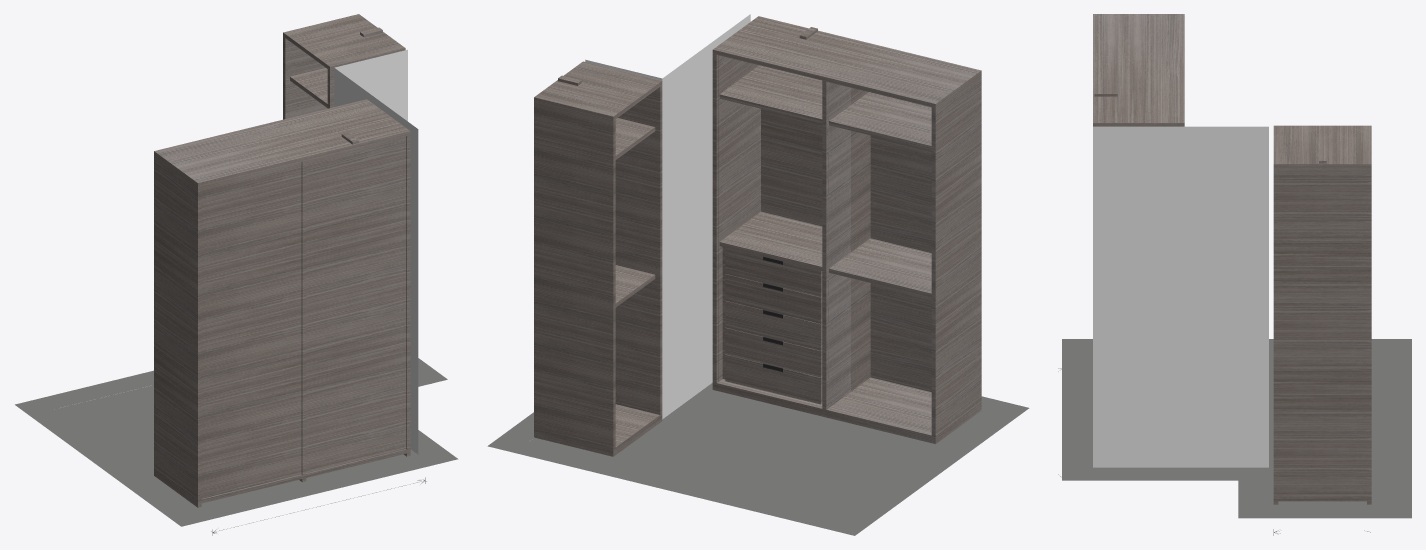
Rendered from CON SC.obj.
The picture shows the model from 3 angles, left to right: view 1: azimuth 30°, elevation 25°; view 2: azimuth 150°, elevation 25°; view 3: azimuth 270°, elevation 25°; orthographic projection. The views are drawn at different scales.
Visible parts, largest first — view 1: Mesh2 D1_SC_DXF1 Model; view 2: Mesh2 D1_SC_DXF1 Model; view 3: Mesh2 D1_SC_DXF1 Model.
Boxes of the visible parts, left/top/right/bottom form: Mesh2 D1_SC_DXF1 Model: left=15, top=14, right=458, bottom=526; Mesh2 D1_SC_DXF1 Model: left=487, top=14, right=1029, bottom=535; Mesh2 D1_SC_DXF1 Model: left=1062, top=14, right=1411, bottom=518.
Bounding box in the file's own units: 109 × 102 × 90.28.
6 materials, 2 textured.
